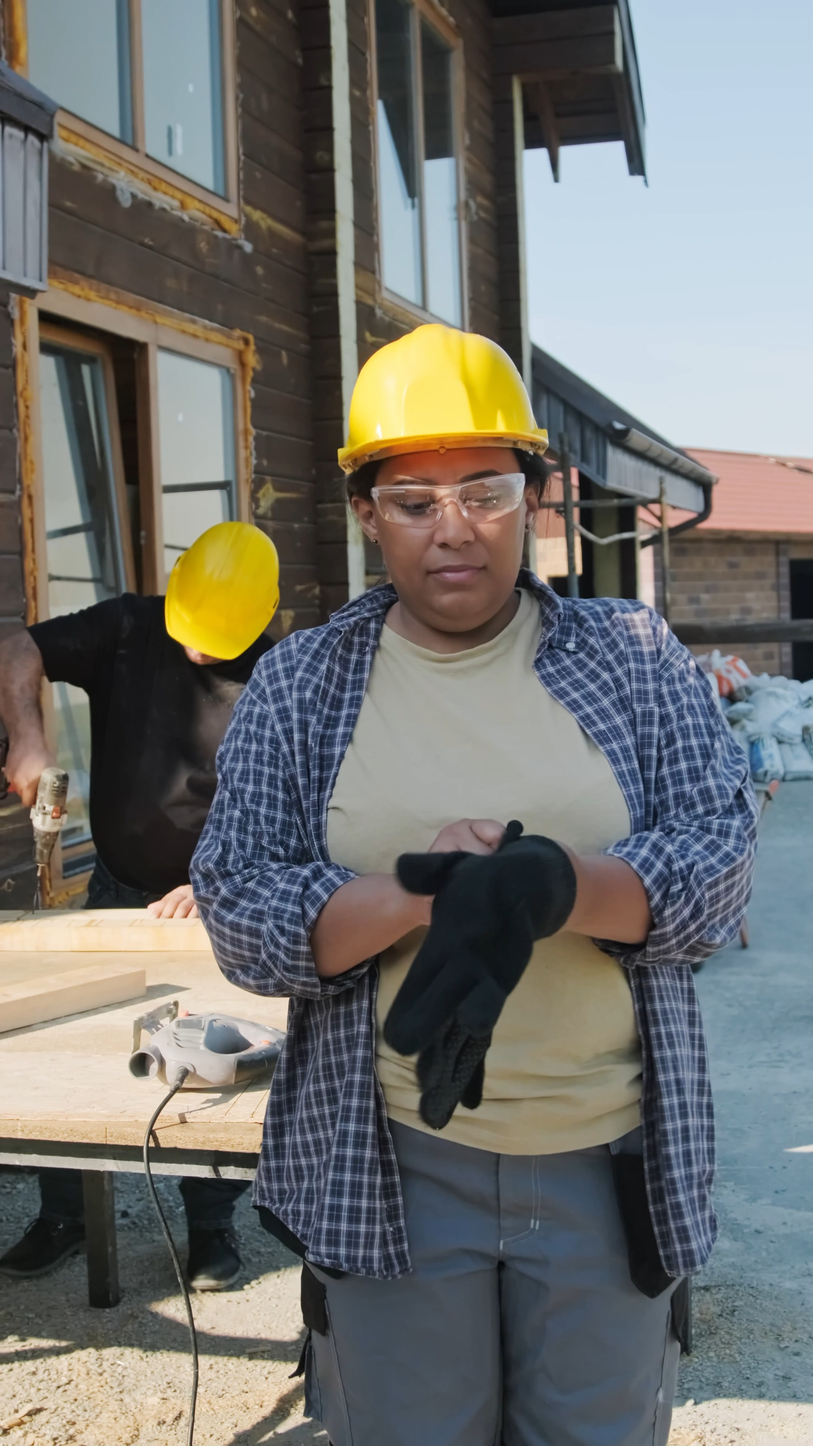gloves: (403, 845, 593, 1131)
